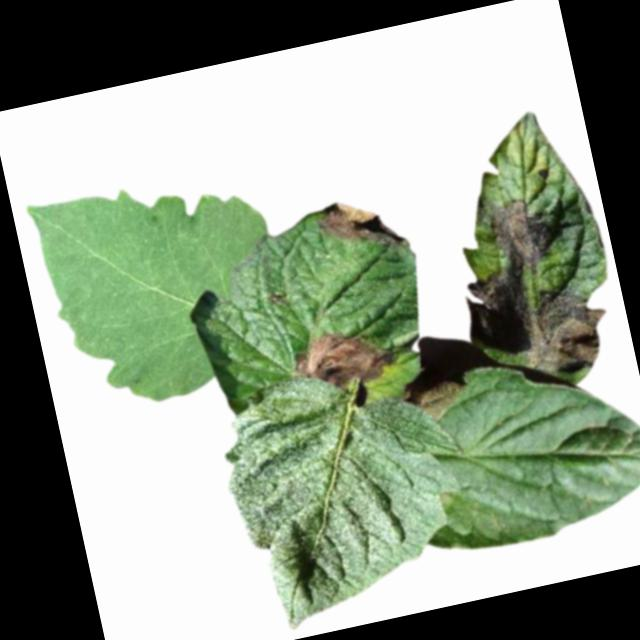Late_blight: (458, 250, 618, 394), (288, 316, 402, 399), (469, 182, 560, 276), (312, 189, 409, 264), (403, 376, 469, 425), (263, 291, 287, 310)
healthy: (207, 347, 491, 638), (27, 159, 299, 419)
